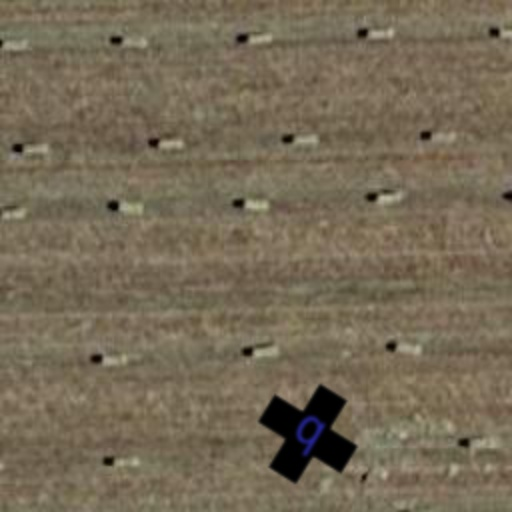cross: (240, 366, 376, 502)
